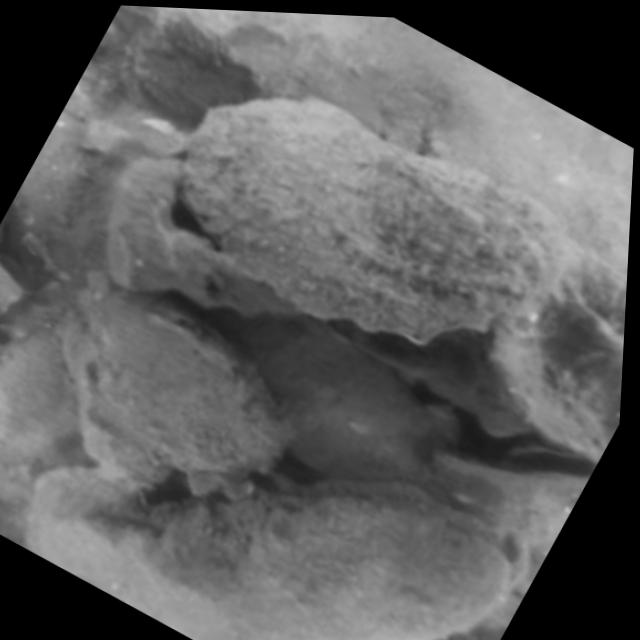Oyster-Closed: (152, 480, 530, 640)
Oyster-Indeterminate: (179, 96, 568, 341), (68, 294, 288, 484), (235, 316, 436, 480)
